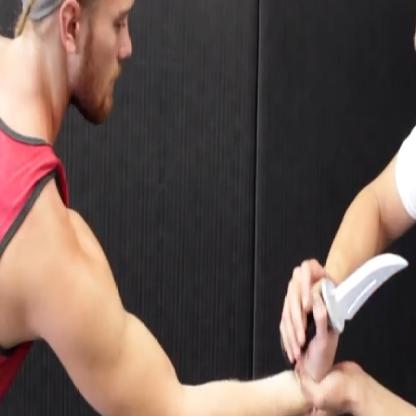knife: (284, 236, 416, 367)
